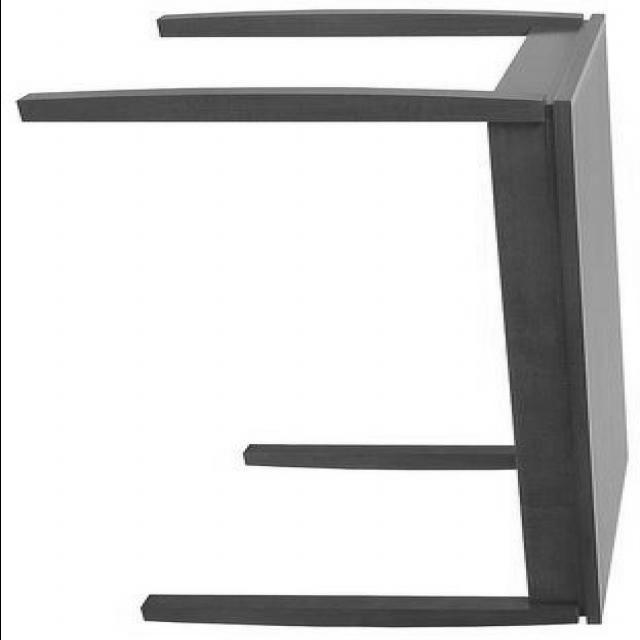table: (21, 7, 627, 627)
